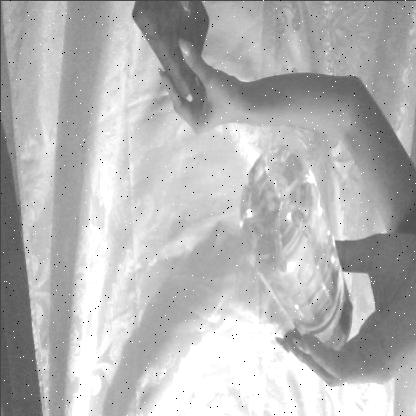Plastic Bottle: (228, 118, 369, 374)
